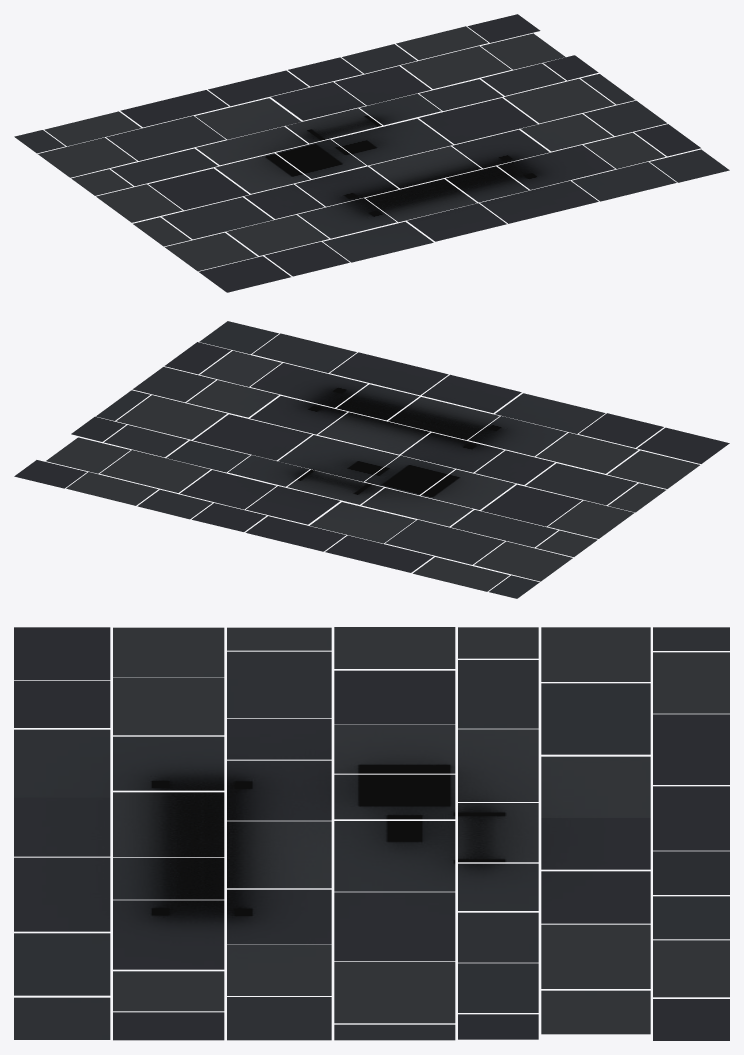
Rendered from floor.glb.
The picture shows the model from 3 angles, top to bottom: view 1: azimuth 30°, elevation 25°; view 2: azimuth 150°, elevation 25°; view 3: azimuth 270°, elevation 25°; orthographic projection. The views are drawn at different scales.
Visible parts, largest first — view 1: floor; view 2: floor; view 3: floor.
Boxes of the visible parts, left/top/right/bottom form: floor: left=14, top=14, right=729, bottom=292; floor: left=14, top=321, right=729, bottom=598; floor: left=14, top=627, right=729, bottom=1040.
Size of the model in its own units: 2.99 by 0.00519 by 2.19.
3 materials, 3 textured.
